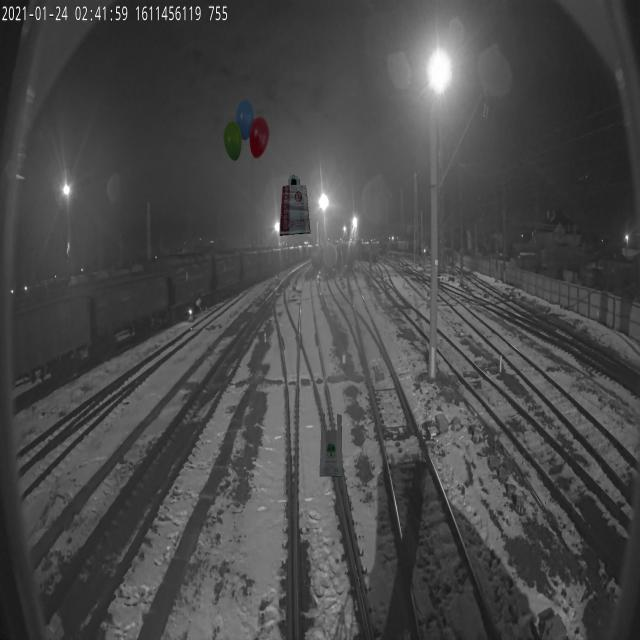balloon: (223, 99, 270, 162)
plastic bag: (279, 172, 310, 236), (320, 413, 342, 477)
